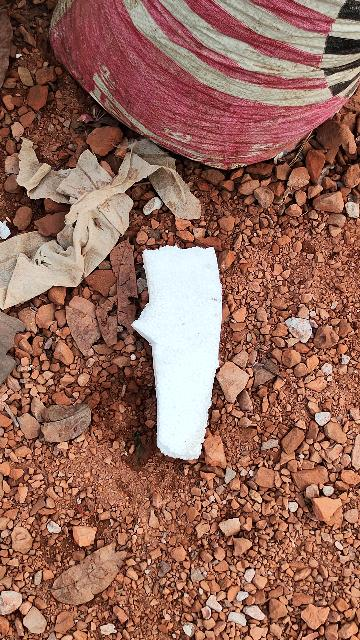cocksheet: (138, 247, 247, 503)
